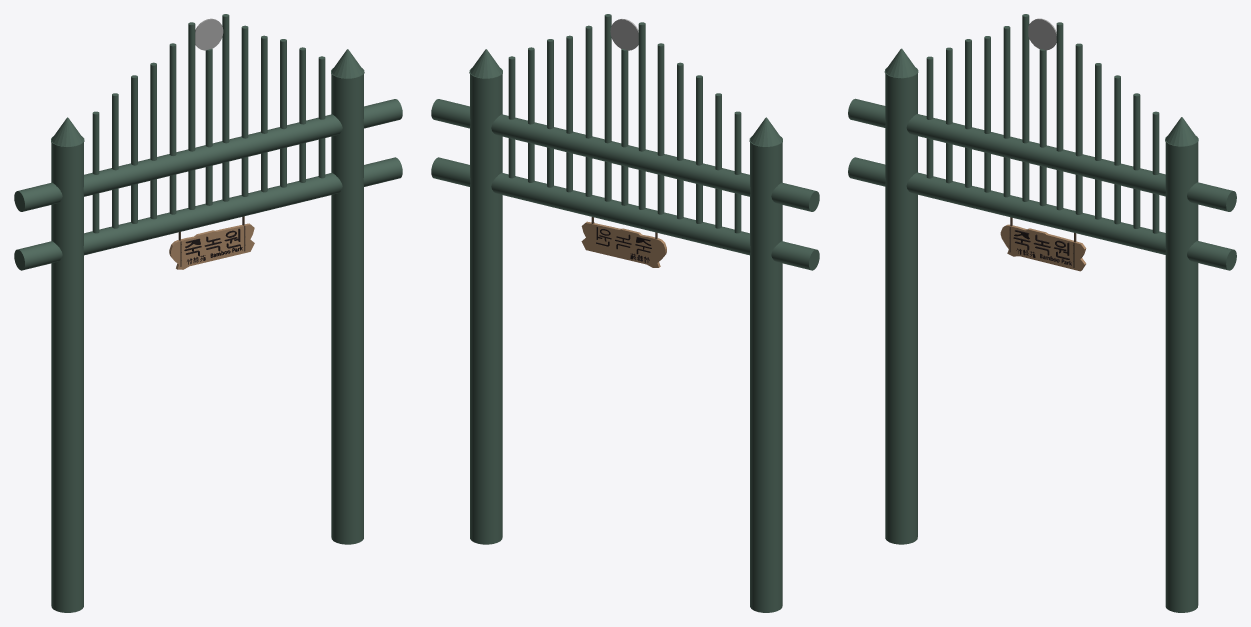
File: 죽녹원 입구.fbx
The picture shows the model from 3 angles, left to right: view 1: azimuth 30°, elevation 25°; view 2: azimuth 150°, elevation 25°; view 3: azimuth 330°, elevation 25°; orthographic projection.
Visible parts, largest first — view 1: pCylinder2, pCylinder5, pCylinder3, pCylinder4, pCube1, pCylinder18, pCylinder12, pCylinder10, pCylinder13, pCylinder19, pCylinder9, pCylinder14 (+7 smaller); view 2: pCylinder2, pCylinder5, pCylinder3, pCylinder4, pCube1, pCylinder18, pCylinder12, pCylinder10, pCylinder13, pCylinder19, pCylinder9, pCylinder14 (+7 smaller); view 3: pCylinder2, pCylinder5, pCylinder3, pCylinder4, pCube1, pCylinder12, pCylinder18, pCylinder13, pCylinder10, pCylinder19, pCylinder14, pCylinder9 (+7 smaller).
Boxes of the visible parts, x1,y1,x2,y2 form: pCylinder2: [331, 49, 364, 544]; pCylinder5: [51, 117, 84, 612]; pCylinder3: [14, 157, 402, 270]; pCylinder4: [14, 99, 402, 211]; pCube1: [169, 223, 254, 269]; pCylinder18: [188, 22, 195, 209]; pCylinder12: [222, 14, 229, 201]; pCylinder10: [169, 43, 176, 214]; pCylinder13: [241, 25, 248, 196]; pCylinder19: [205, 49, 212, 205]; pCylinder9: [150, 62, 156, 219]; pCylinder14: [261, 35, 267, 192]; pCylinder2: [469, 49, 502, 544]; pCylinder5: [749, 117, 782, 612]; pCylinder3: [431, 157, 819, 270]; pCylinder4: [431, 99, 819, 211]; pCube1: [581, 221, 666, 267]; pCylinder18: [638, 22, 645, 209]; pCylinder12: [604, 14, 611, 201]; pCylinder10: [657, 43, 664, 214]; pCylinder13: [585, 25, 592, 196]; pCylinder19: [621, 49, 628, 205]; pCylinder9: [677, 62, 683, 219]; pCylinder14: [566, 35, 572, 192]; pCylinder2: [1165, 117, 1198, 612]; pCylinder5: [884, 48, 918, 544]; pCylinder3: [848, 157, 1236, 270]; pCylinder4: [848, 98, 1236, 211]; pCube1: [1000, 224, 1086, 271]; pCylinder12: [1056, 22, 1063, 210]; pCylinder18: [1022, 14, 1029, 201]; pCylinder13: [1075, 43, 1082, 214]; pCylinder10: [1003, 26, 1010, 197]; pCylinder19: [1039, 49, 1046, 206]; pCylinder14: [1095, 63, 1101, 219]; pCylinder9: [984, 36, 990, 192].
Bounding box in the file's own units: 9.31 × 13.01 × 0.7225.
